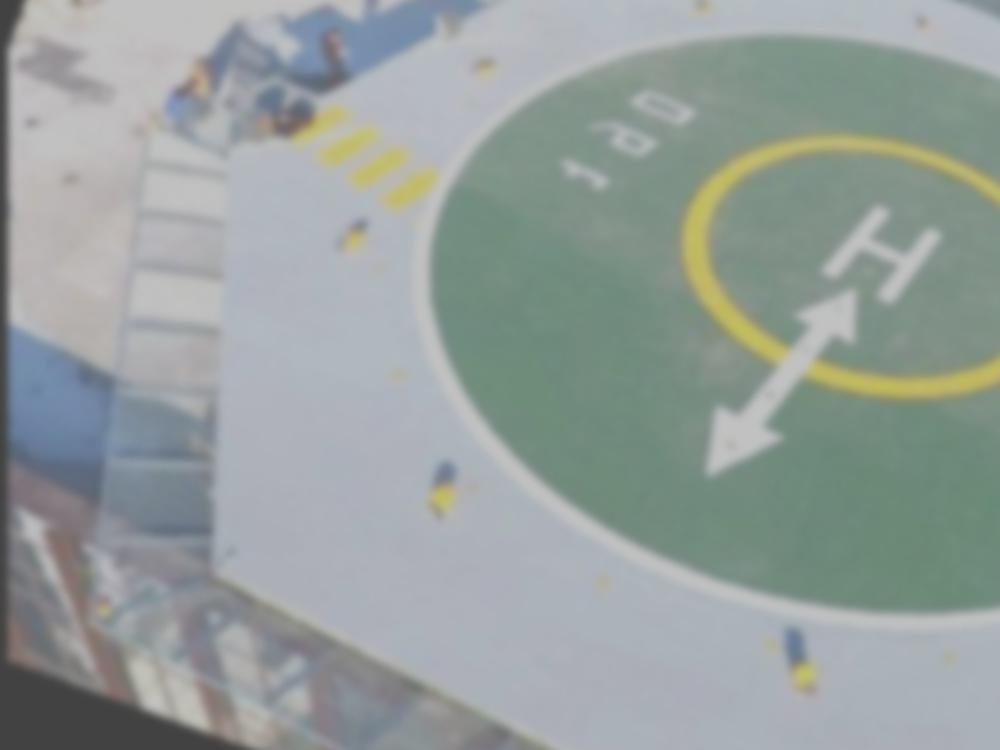Apron: (667, 101, 1000, 448)
